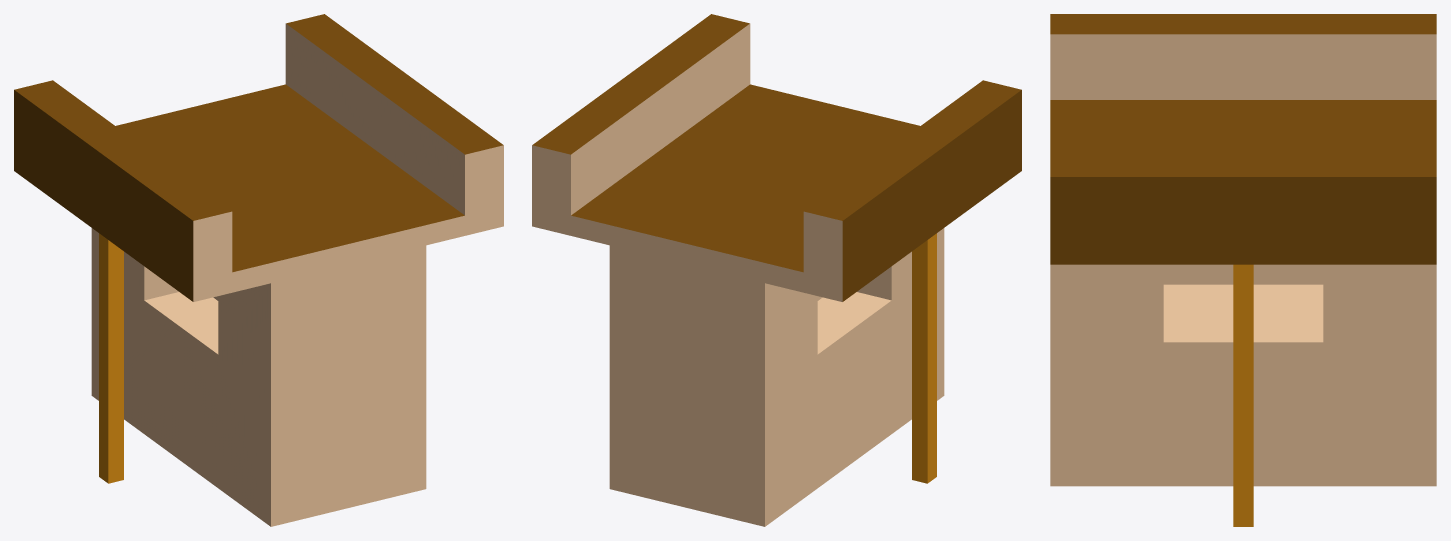
File: WallBuilding.fbx
3 renders of one model, left to right at view 1: azimuth 30°, elevation 25°; view 2: azimuth 150°, elevation 25°; view 3: azimuth 270°, elevation 25°, orthographic. The views are drawn at different scales.
Visible parts, largest first — view 1: Cube; view 2: Cube; view 3: Cube.
Boxes of the visible parts, bbox=[...] form: Cube: bbox=[14, 14, 503, 526]; Cube: bbox=[532, 14, 1021, 526]; Cube: bbox=[1050, 14, 1436, 526].
Size of the model in its own units: 400 by 400 by 400.
